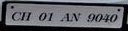character: (11, 10, 21, 21), (20, 10, 30, 21), (59, 11, 69, 22), (69, 12, 80, 22), (108, 12, 117, 23), (38, 11, 46, 21), (86, 12, 94, 22), (94, 12, 102, 22), (101, 12, 109, 22), (47, 12, 53, 21)
